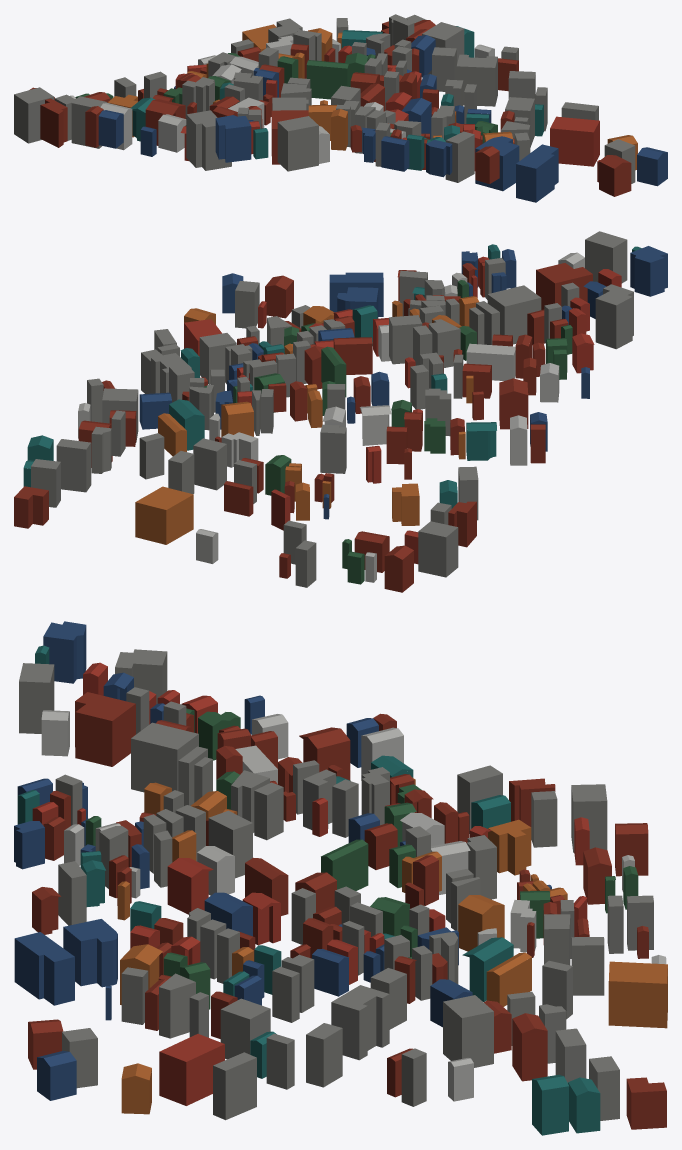
The model's file is near-17-109439-59475.59255cbf.glb.
The picture shows the model from 3 angles, top to bottom: view 1: azimuth 30°, elevation 25°; view 2: azimuth 150°, elevation 25°; view 3: azimuth 270°, elevation 25°; orthographic projection. The views are drawn at different scales.
Bounding box in the file's own units: 305 × 125 × 298.
